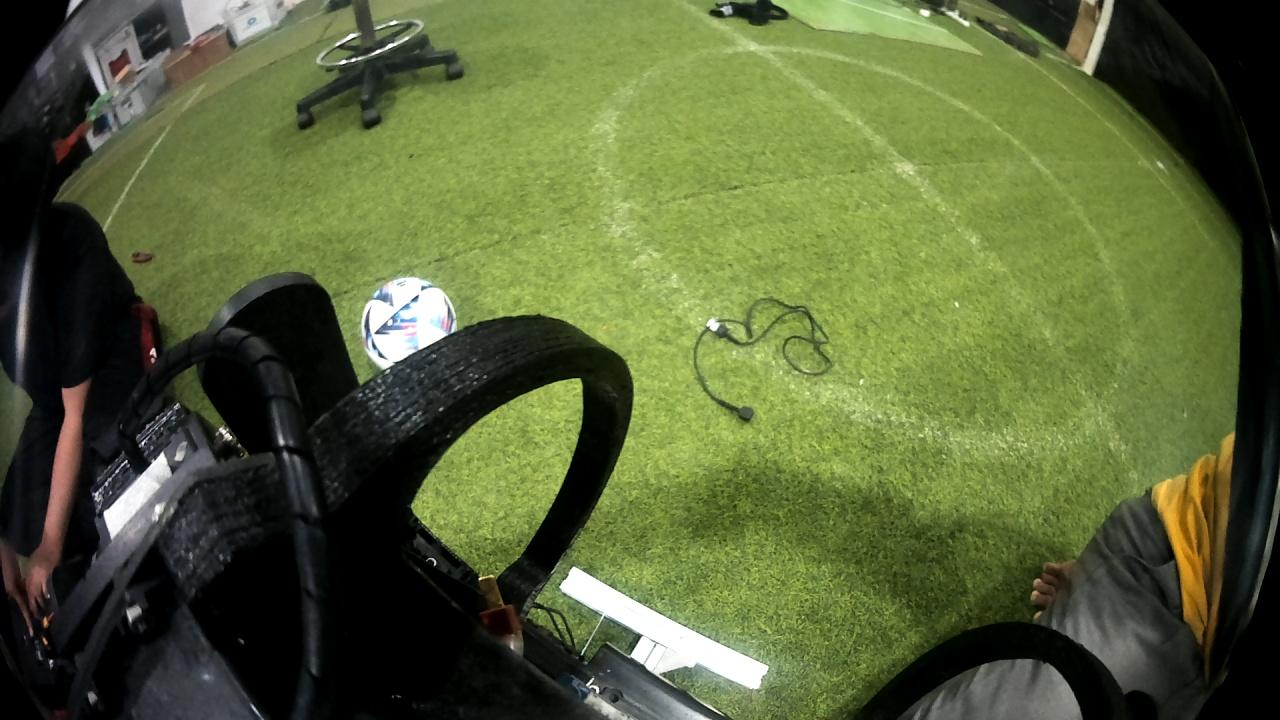ball: (359, 272, 461, 374)
